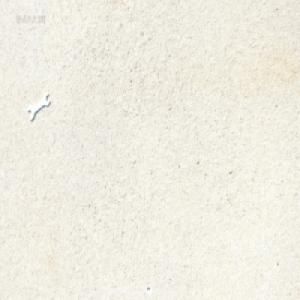Wrench: (27, 89, 50, 121)
